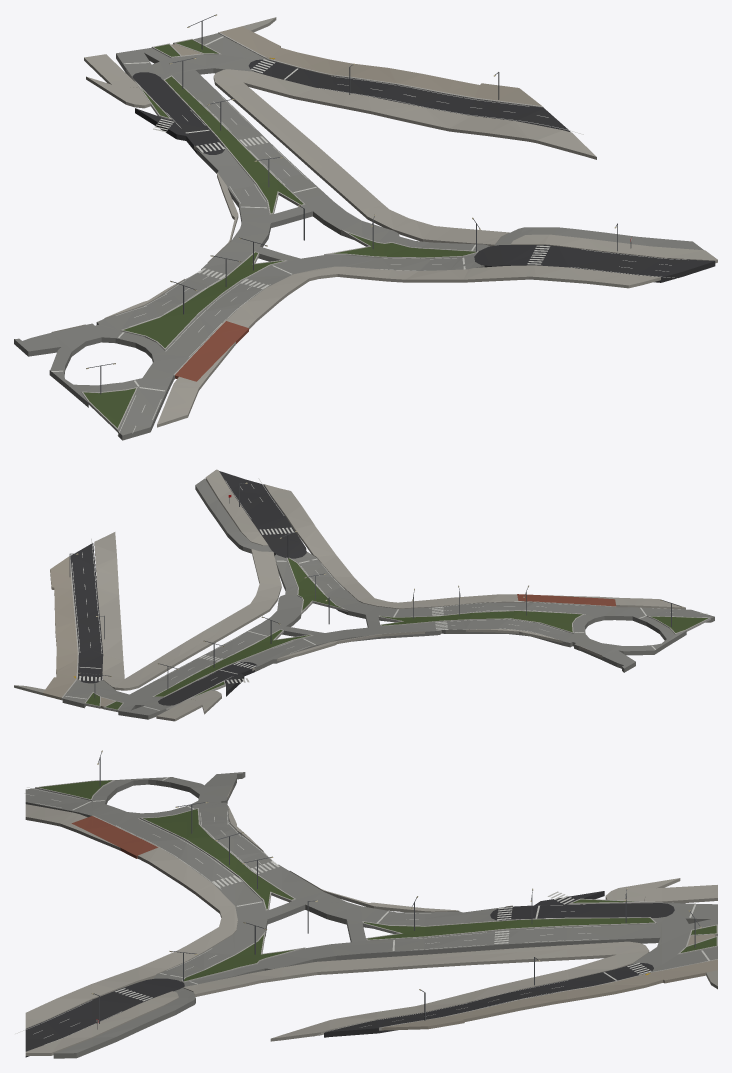
3 renders of one model, top to bottom at view 1: azimuth 30°, elevation 25°; view 2: azimuth 150°, elevation 25°; view 3: azimuth 270°, elevation 25°, orthographic. The views are drawn at different scales.
Size of the model in its own units: 150 by 19.89 by 148.
